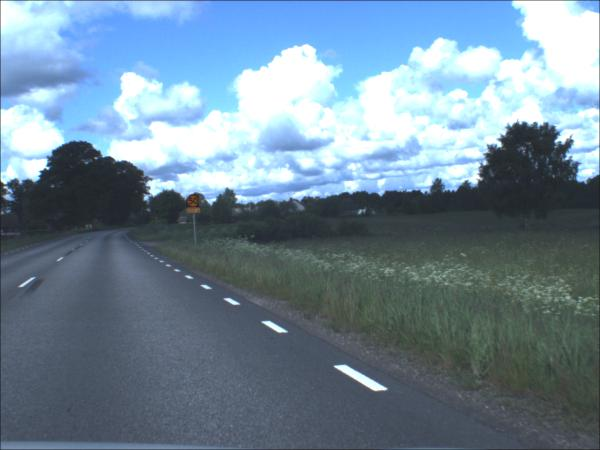50_SIGN: (188, 195, 202, 209)
